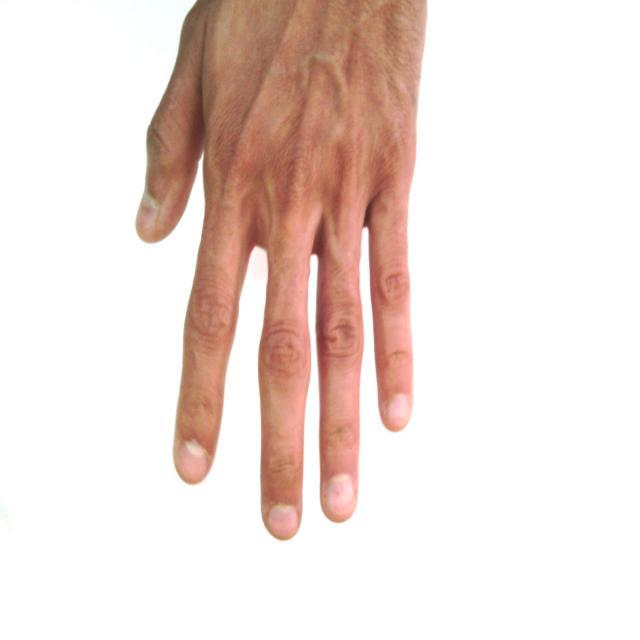Fingernail: (326, 475, 353, 514), (180, 443, 207, 480), (270, 506, 297, 537), (137, 195, 156, 236), (388, 395, 408, 424)
